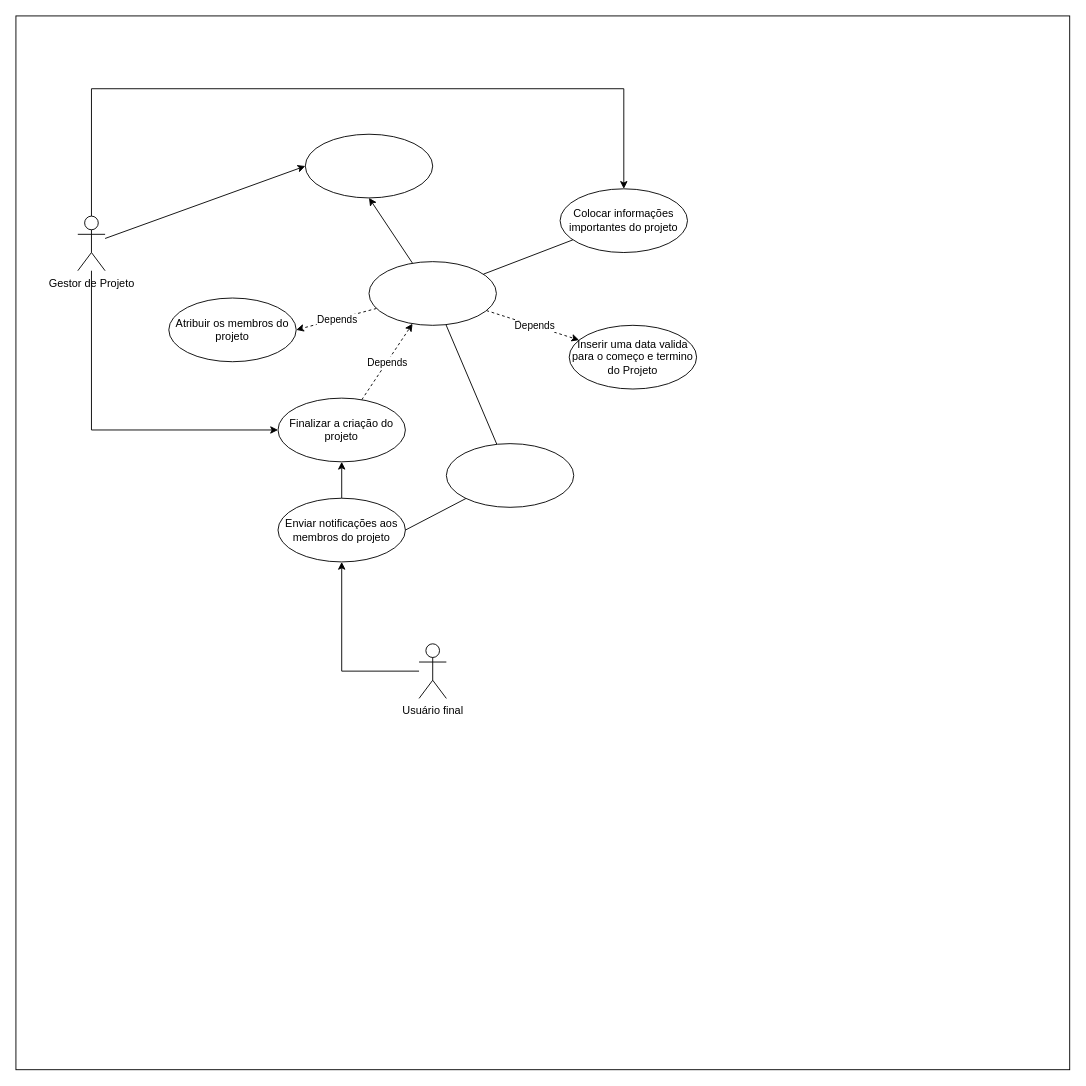
The diagram is 1086 pixels wide and 1086 high, and some of its shapes have lost their labels. Here are the shapes that lost their labels. From the top down, the centre of each, then its label:
At [368,165]: "Criar Projeto".
At [432,293]: "Exibir um formulário".
At [509,475]: "Sistema".
